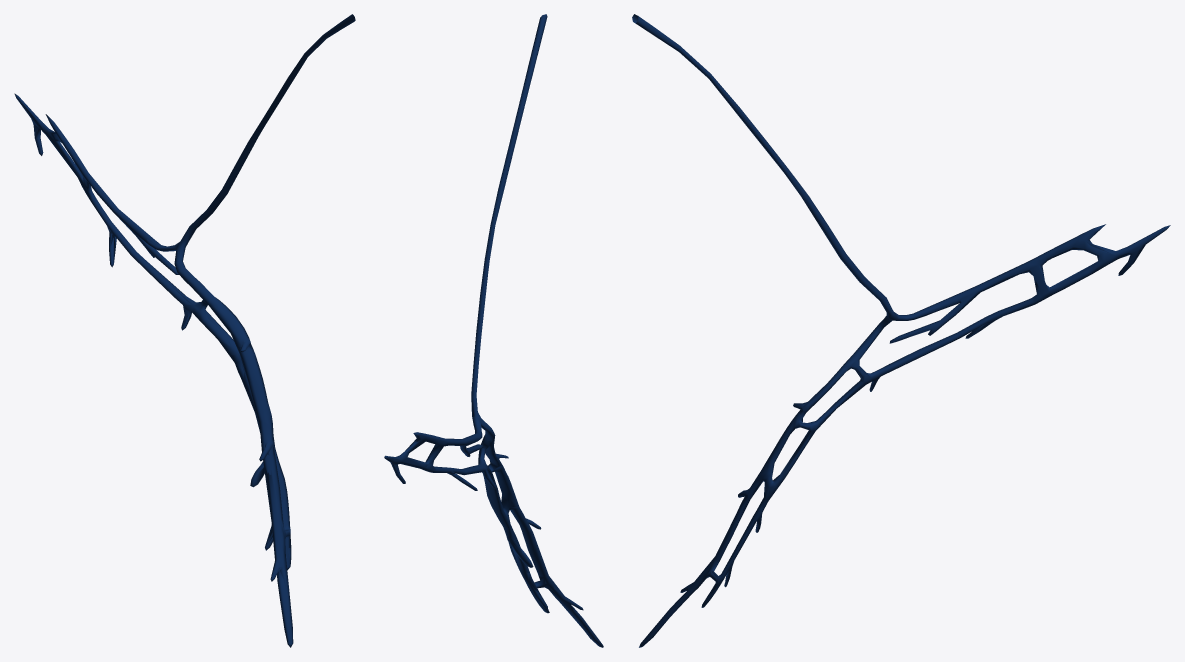
Rendered from L vena uterina.fbx.
The picture shows the model from 3 angles, left to right: view 1: azimuth 30°, elevation 25°; view 2: azimuth 150°, elevation 25°; view 3: azimuth 270°, elevation 25°; orthographic projection. The views are drawn at different scales.
Visible parts, largest first — view 1: L vena uterina low, L vena uterina; view 2: L vena uterina, L vena uterina low; view 3: L vena uterina, L vena uterina low.
Part boxes in pixels (box(x1,y1,x2,y2)): L vena uterina low: box(16, 14, 354, 644); L vena uterina: box(14, 14, 355, 647); L vena uterina: box(384, 14, 603, 647); L vena uterina low: box(387, 27, 603, 645); L vena uterina: box(632, 16, 1170, 647); L vena uterina low: box(632, 14, 1163, 646).
Size of the model in its own units: 3.32 by 21.2 by 15.57.
